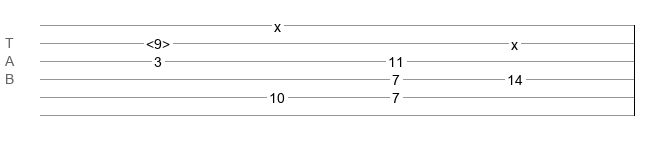10: (269, 90, 285, 100)
11: (388, 54, 404, 64)
14: (507, 72, 523, 82)
3: (154, 54, 162, 64)
7: (392, 72, 400, 82), (392, 90, 400, 100)
harmonic: (146, 36, 170, 46)
x: (274, 19, 281, 27), (511, 37, 518, 45)
